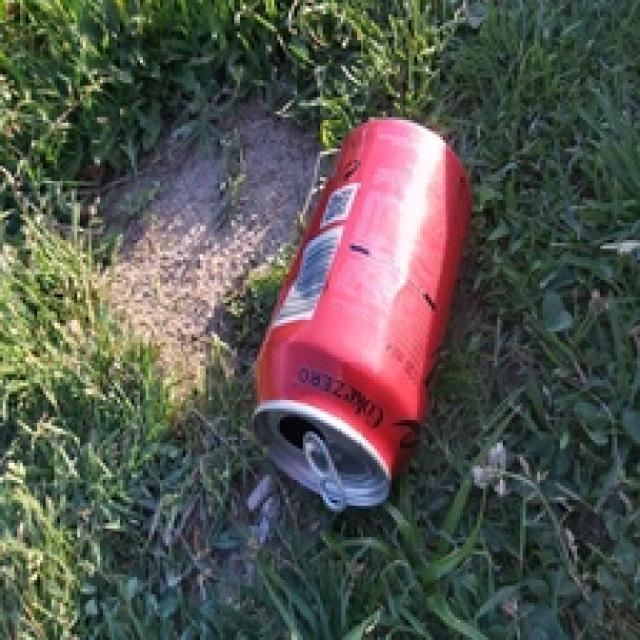recyclable: (251, 116, 476, 508)
